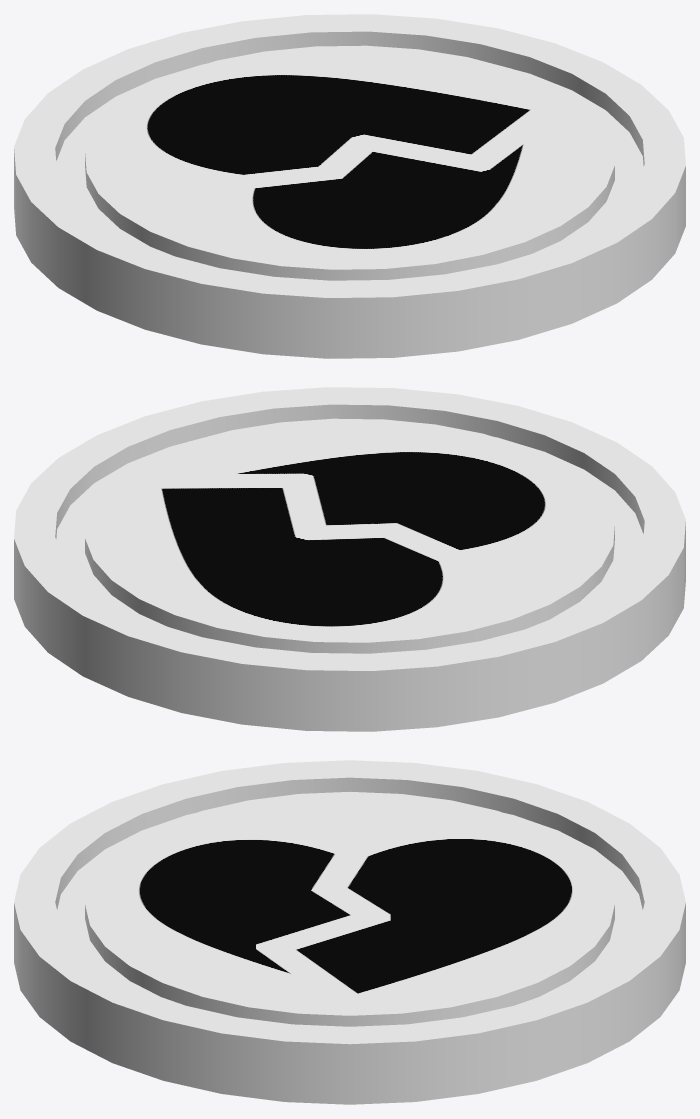
File: counter.glb
The picture shows the model from 3 angles, top to bottom: view 1: azimuth 30°, elevation 25°; view 2: azimuth 150°, elevation 25°; view 3: azimuth 270°, elevation 25°; orthographic projection.
Visible parts, largest first — view 1: Cylinder; view 2: Cylinder; view 3: Cylinder.
Boxes of the visible parts, <box> form: Cylinder: <box>14,14,685,358</box>; Cylinder: <box>14,387,685,731</box>; Cylinder: <box>14,760,685,1104</box>.
Bounding box in the file's own units: 2 × 0.1988 × 2.
Materials: 1 (1 with a texture image).
